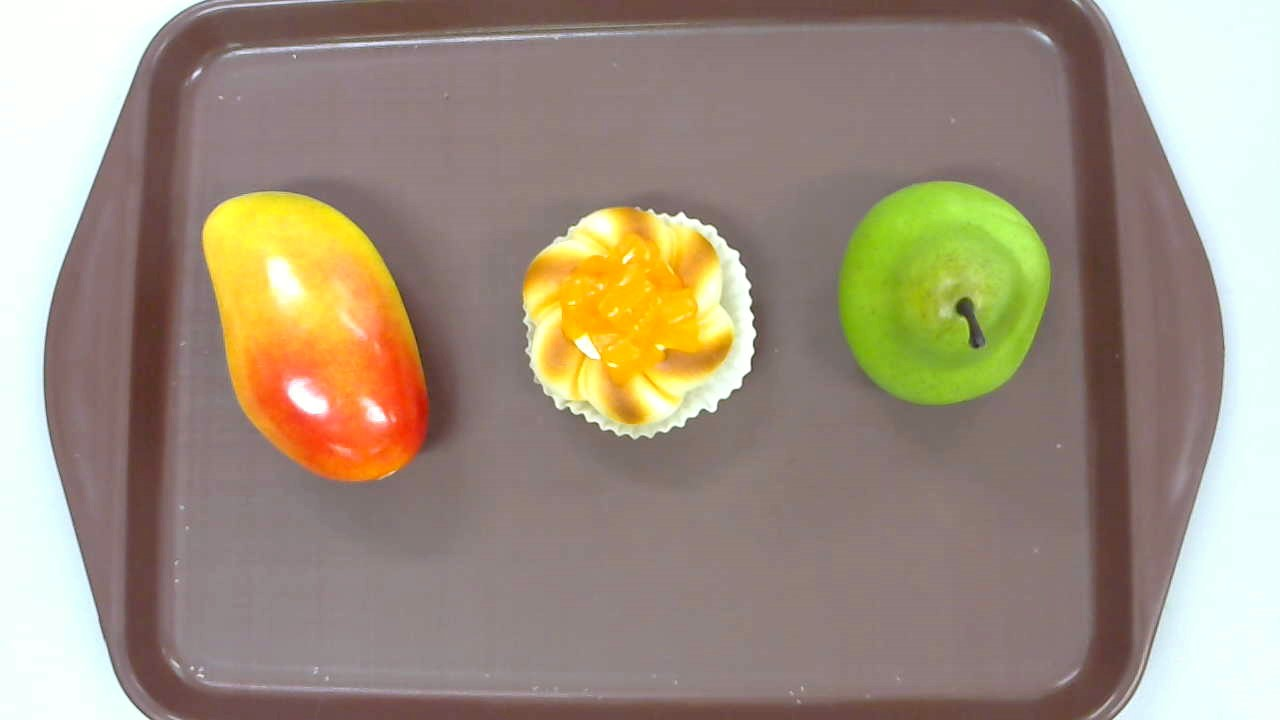green pear: (837, 181, 1051, 402)
mango tart: (522, 206, 757, 441)
red mango: (202, 191, 431, 482)
